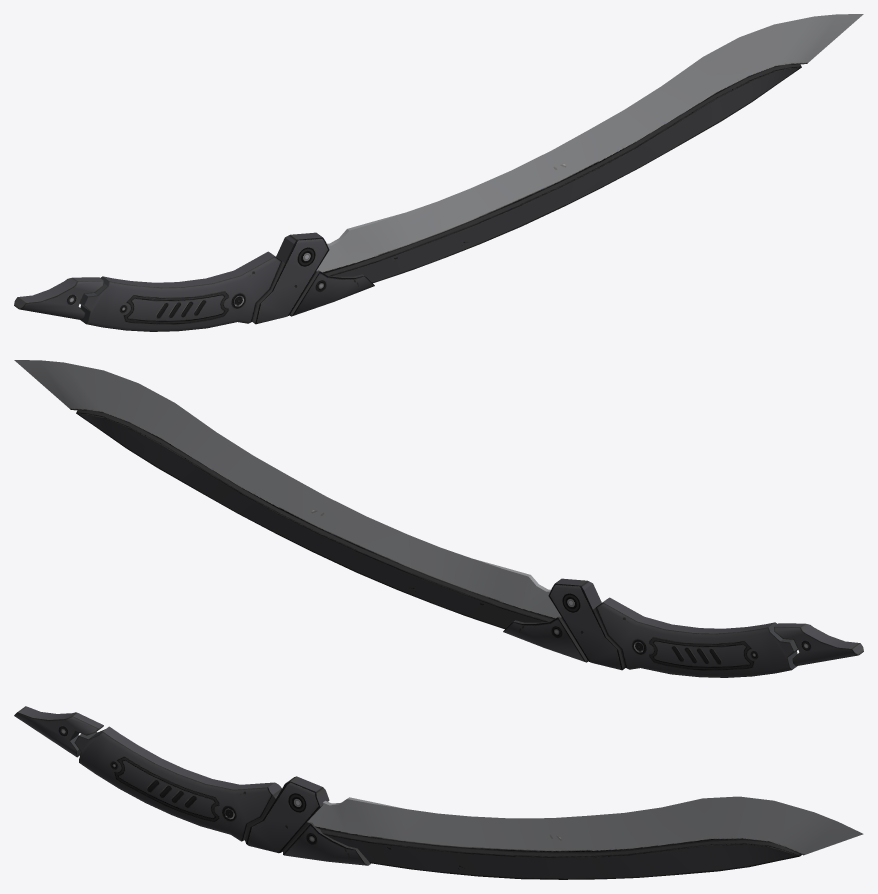
The model's file is E1DaggerMd030011 #379316.fbx.
The picture shows the model from 3 angles, top to bottom: view 1: azimuth 30°, elevation 25°; view 2: azimuth 150°, elevation 25°; view 3: azimuth 330°, elevation 25°; orthographic projection.
Visible parts, largest first — view 1: E1DaggerMd030011; view 2: E1DaggerMd030011; view 3: E1DaggerMd030011.
Part boxes in pixels (x1=…): E1DaggerMd030011: x1=14, y1=14, x2=863, y2=331; E1DaggerMd030011: x1=14, y1=360, x2=863, y2=677; E1DaggerMd030011: x1=14, y1=706, x2=863, y2=879.
Size of the model in its own units: 0.5909 by 0.114 by 0.0113.
1 material, 1 textured.
